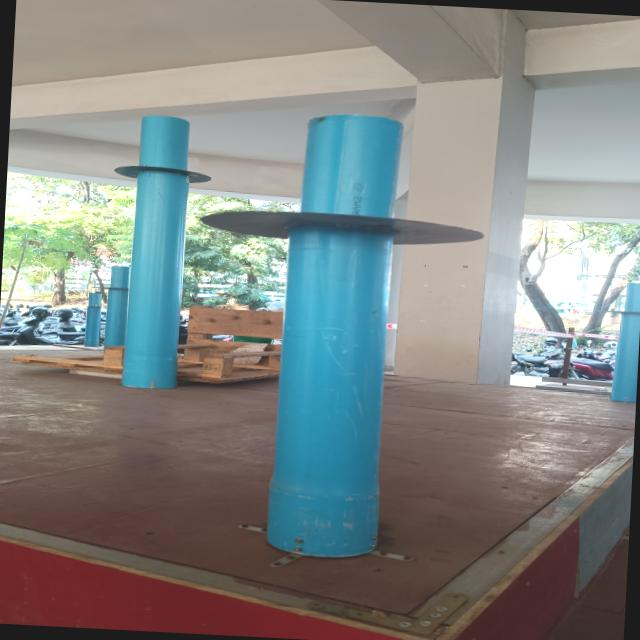pole: (164, 102, 513, 356), (108, 108, 215, 264)
